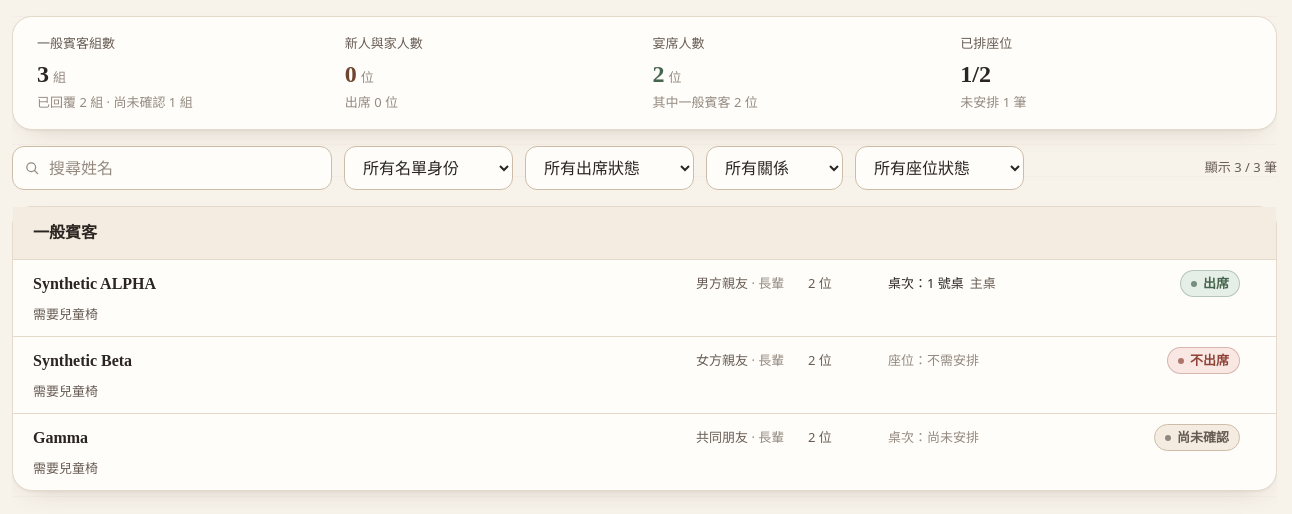
Test: GuestList › searches trimmed names case-insensitively, reports results, and resets
The image size is (1292, 514).
Expected: the text "顯示 3 / 3 筆" is shown, [1205,157,1277,178]
Type "  alpha  " into the search field named "搜尋賓客姓名".
click(172, 168); type("  alpha  ")  # box [12,146,332,190]
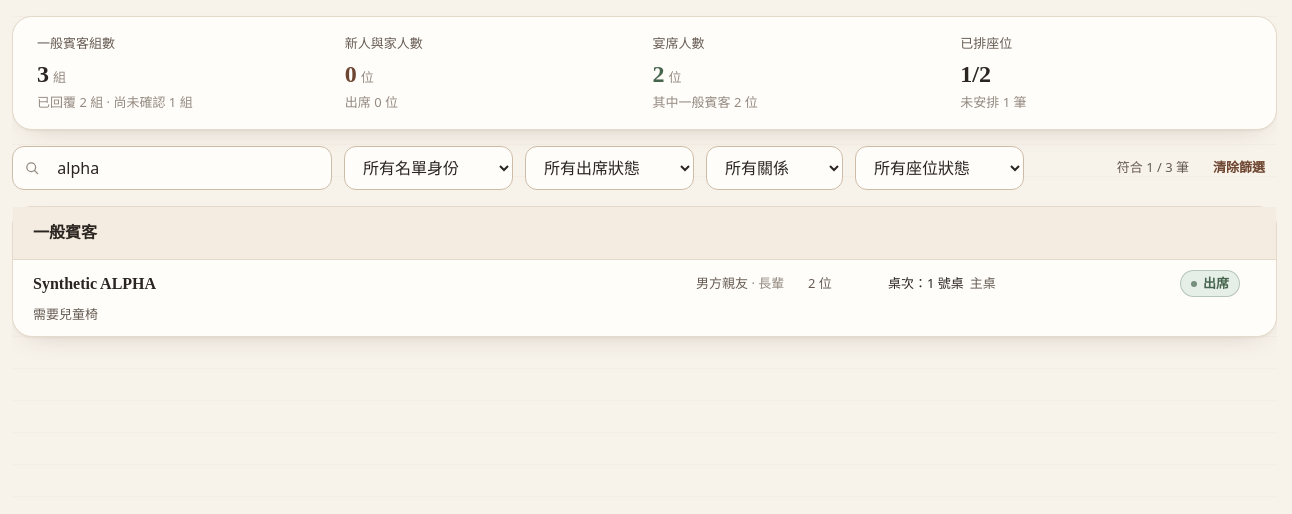
Expected: the heading "Synthetic ALPHA" is shown, [33,275,156,292]
Expected: the heading "Synthetic Beta" is gone
Expected: the text "符合 1 / 3 筆" is shown, [1117,157,1189,178]
Click the button "清除篩選".
click(1239, 168)  # box [1201,150,1277,186]
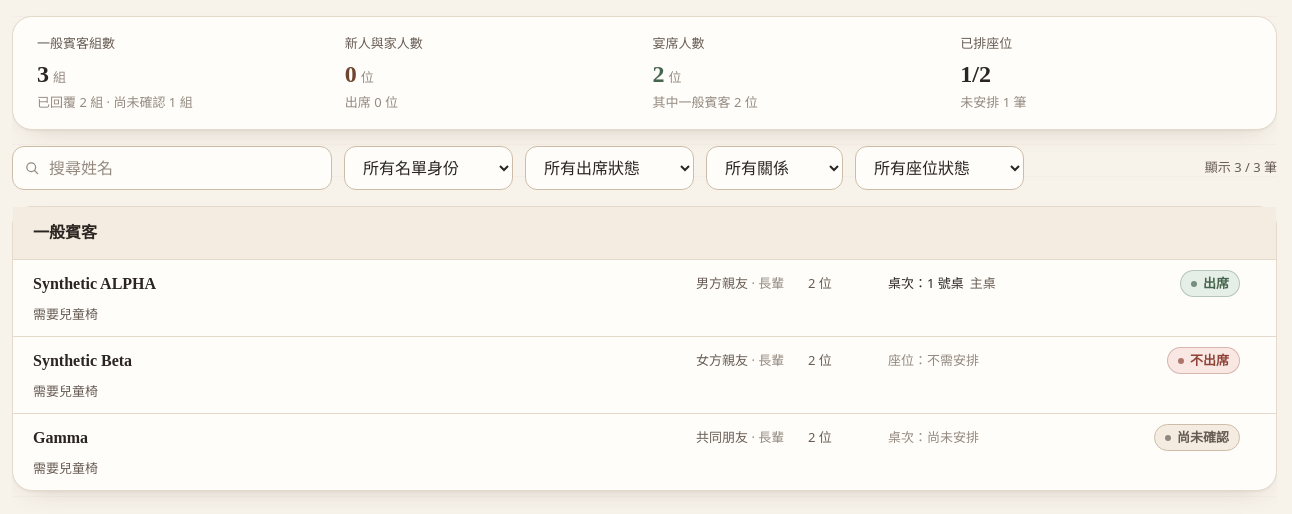
Expected: the heading "Synthetic Beta" is shown, [33,352,132,369]
Expected: the search field named "搜尋賓客姓名" is empty, [12,146,332,190]
Expected: the text "顯示 3 / 3 筆" is shown, [1205,157,1277,178]
